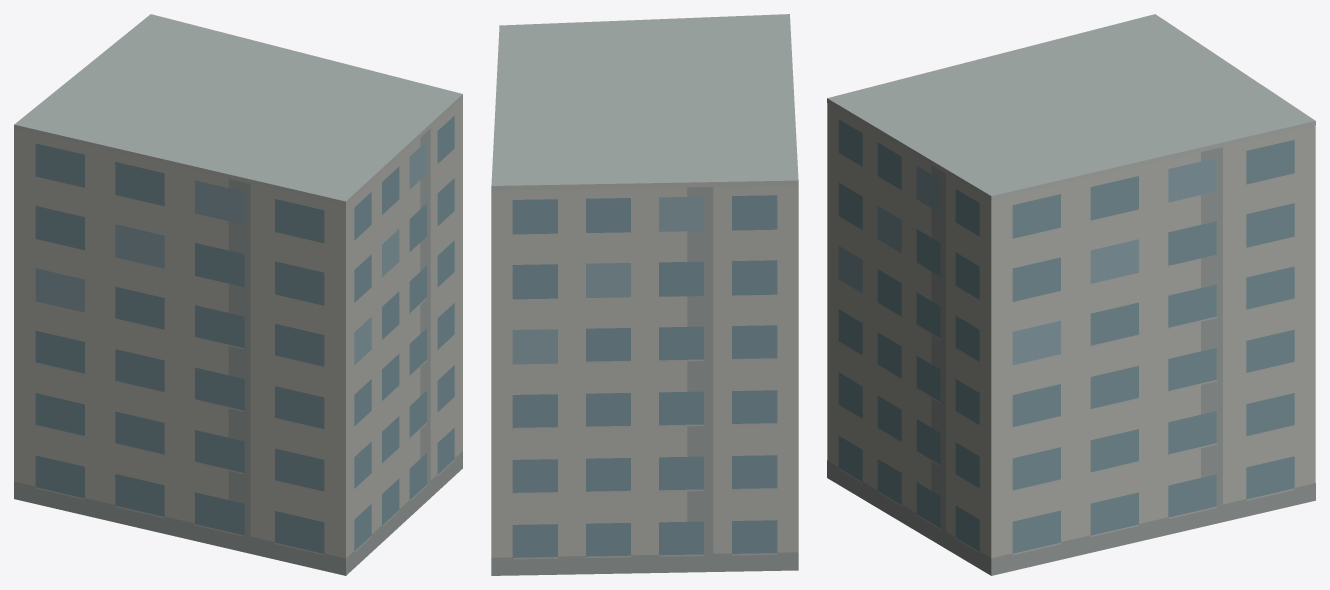
Rendered from survey-upis-32967221.glb.
3 renders of one model, left to right at view 1: azimuth 30°, elevation 25°; view 2: azimuth 150°, elevation 25°; view 3: azimuth 270°, elevation 25°, orthographic. The views are drawn at different scales.
Parts seen in each view (by area): view 1: survey-upis-32967221.tmp; view 2: survey-upis-32967221.tmp; view 3: survey-upis-32967221.tmp.
Part boxes in pixels (x1,y1,x2,y2): survey-upis-32967221.tmp: (14,14,462,575); survey-upis-32967221.tmp: (491,14,798,575); survey-upis-32967221.tmp: (827,14,1315,575).
Size of the model in its own units: 20.58 by 20 by 23.33.
